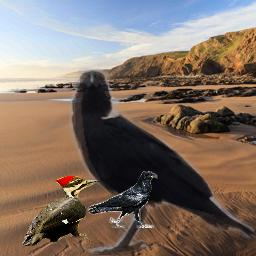Crow: (68, 68, 256, 255), (87, 171, 158, 228)
Woodpecker: (22, 176, 103, 246)
